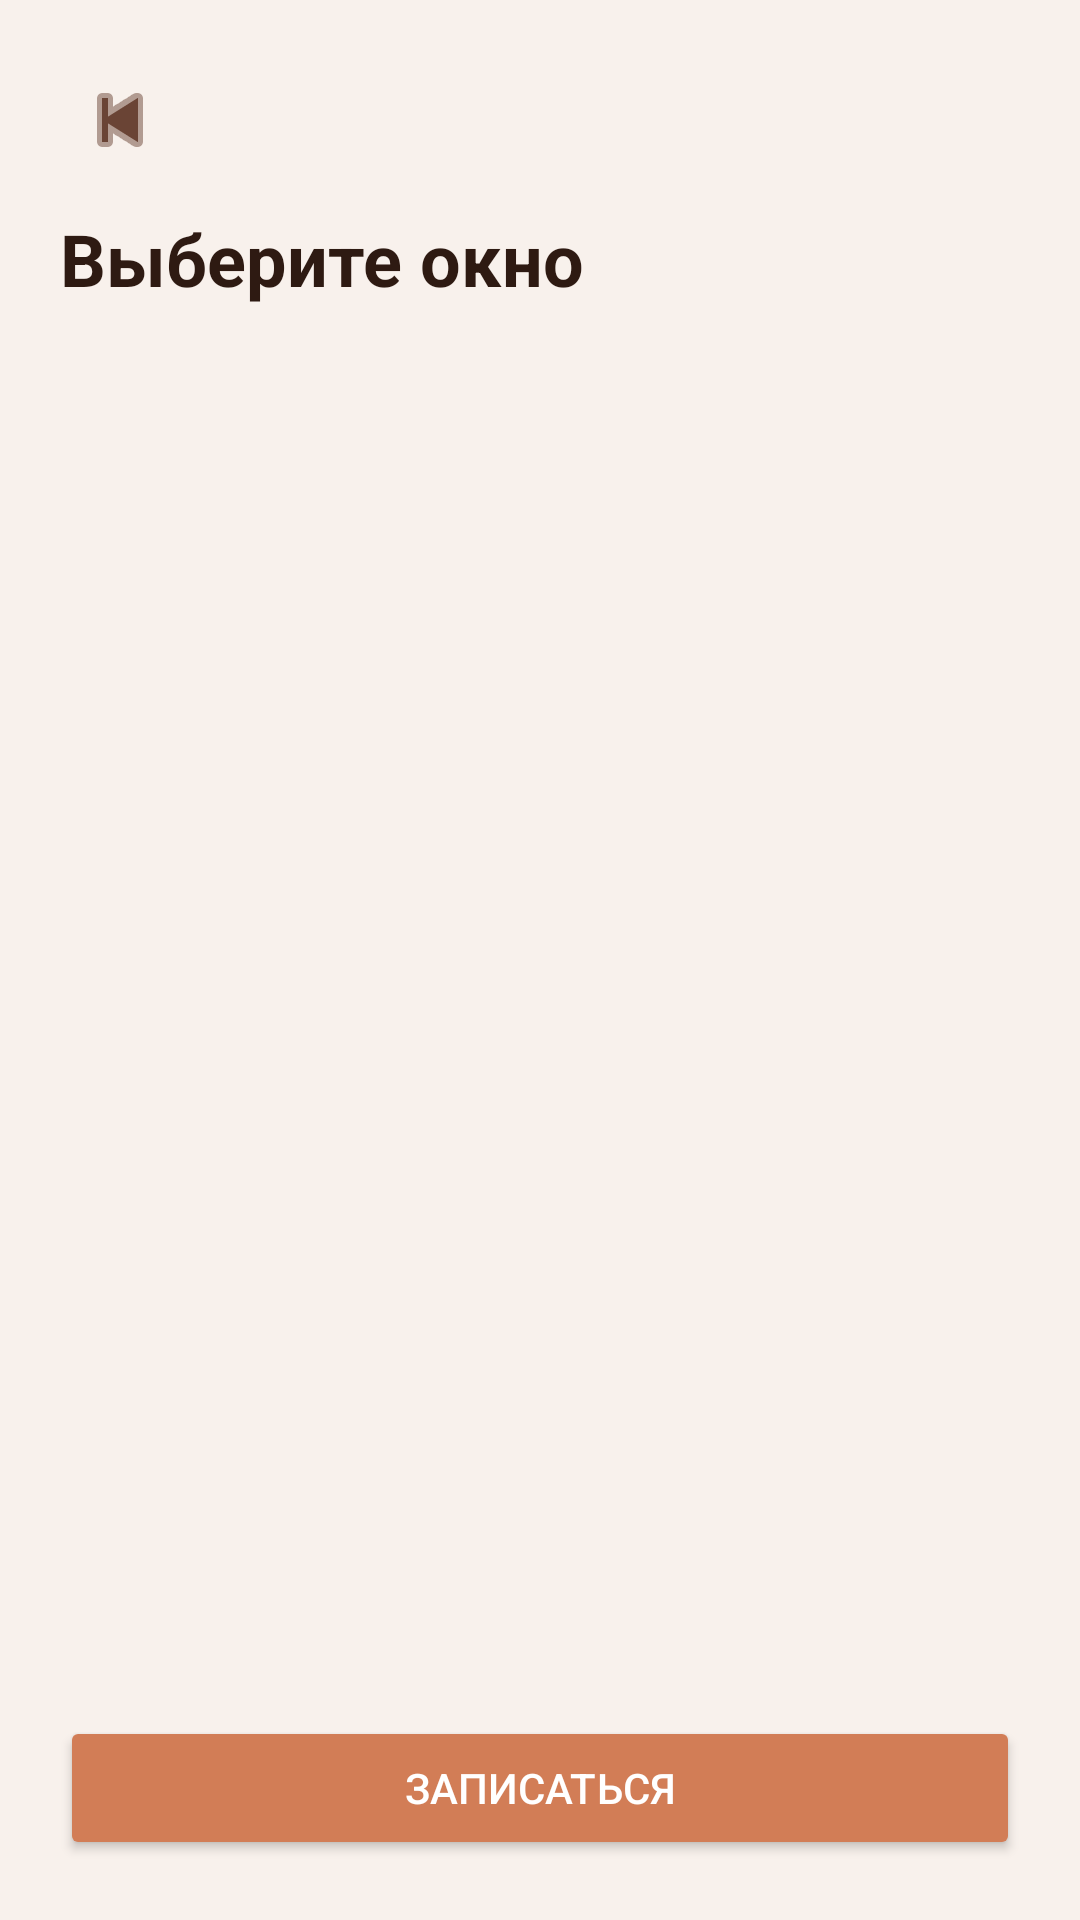

Named icons in this screenshot (1080px x 1920px) and their centers, point (x, y):
Назад: point (120, 120)
